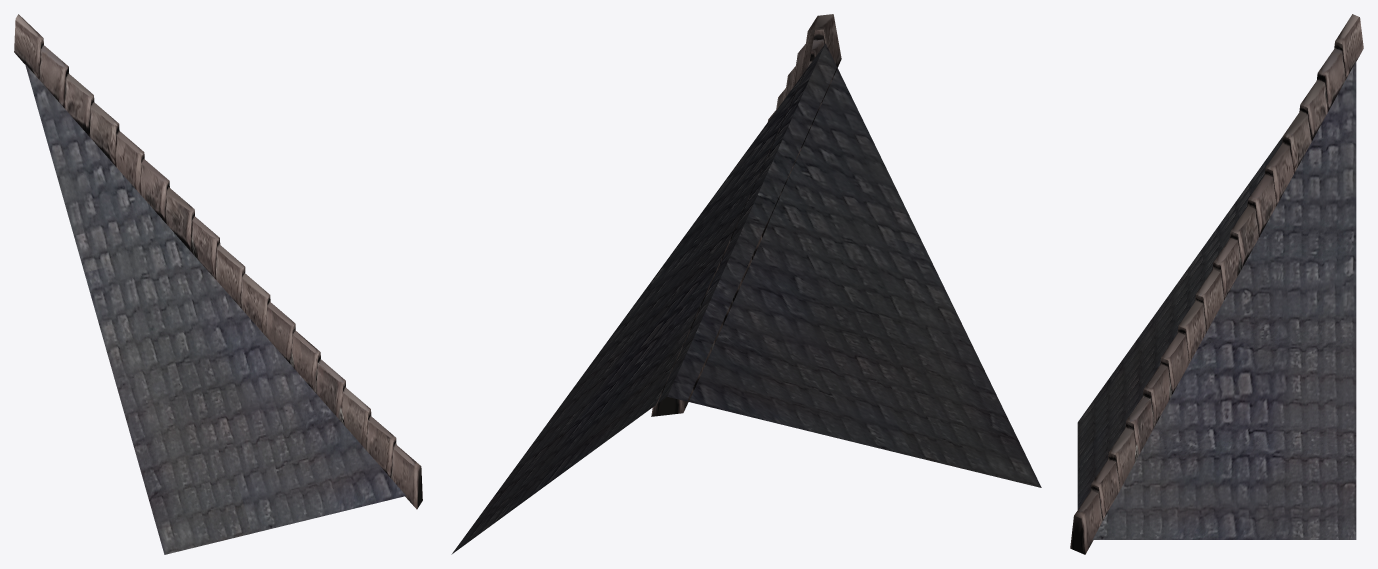
File: RoofCorner2x4-1A.fbx
The picture shows the model from 3 angles, left to right: view 1: azimuth 30°, elevation 25°; view 2: azimuth 150°, elevation 25°; view 3: azimuth 270°, elevation 25°; orthographic projection. The views are drawn at different scales.
Visible parts, largest first — view 1: RoofCorner2x4-1A; view 2: RoofCorner2x4-1A; view 3: RoofCorner2x4-1A.
Boxes of the visible parts, left/top/right/bottom form: RoofCorner2x4-1A: left=14, top=14, right=422, bottom=554; RoofCorner2x4-1A: left=451, top=14, right=1041, bottom=554; RoofCorner2x4-1A: left=1070, top=14, right=1363, bottom=554.
Bounding box in the file's own units: 274 × 431 × 274.
